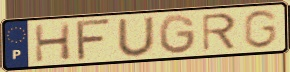F: (75, 17, 115, 63)
G: (157, 13, 198, 56), (241, 8, 279, 50)
H: (33, 21, 73, 64)
R: (200, 11, 238, 53)
U: (116, 15, 158, 58)
